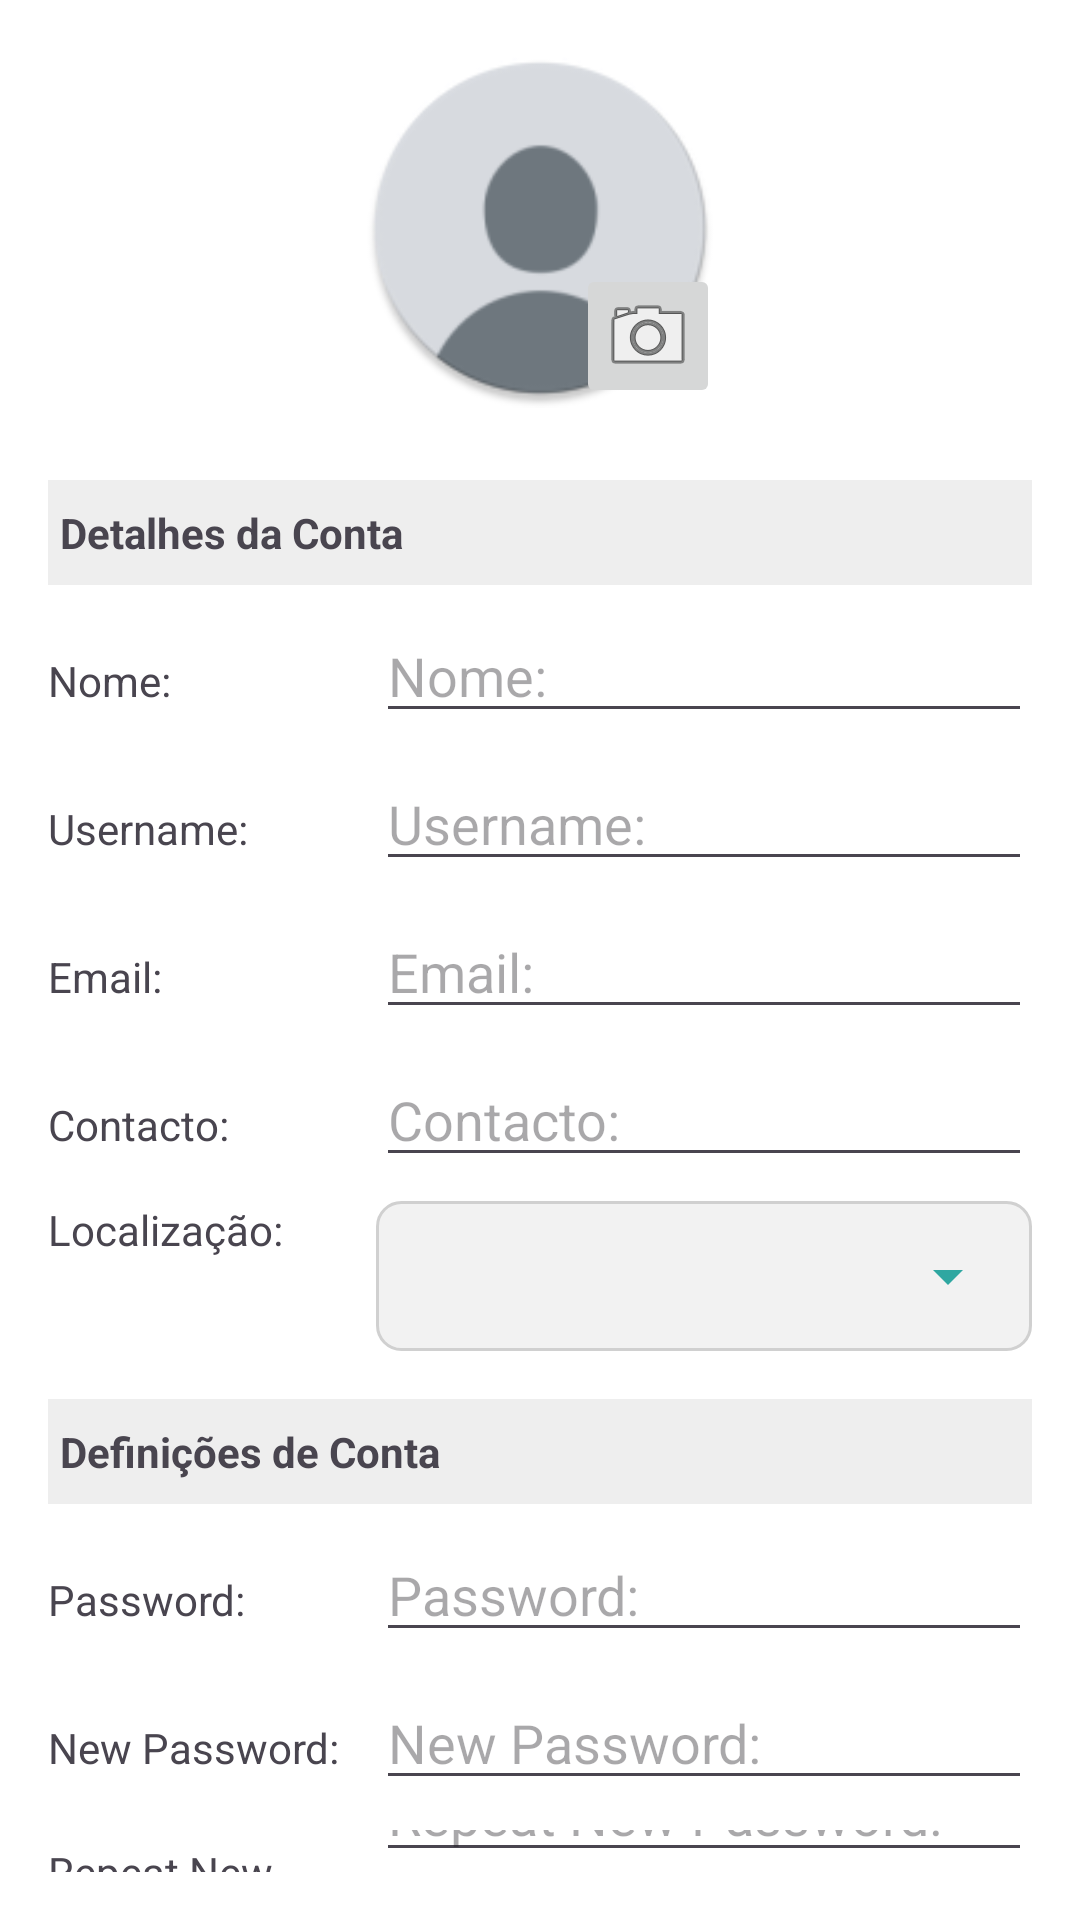

Where to tap for icons on this 1080 x 1920 app screen, as point (x, y):
camera: point (648, 336)
